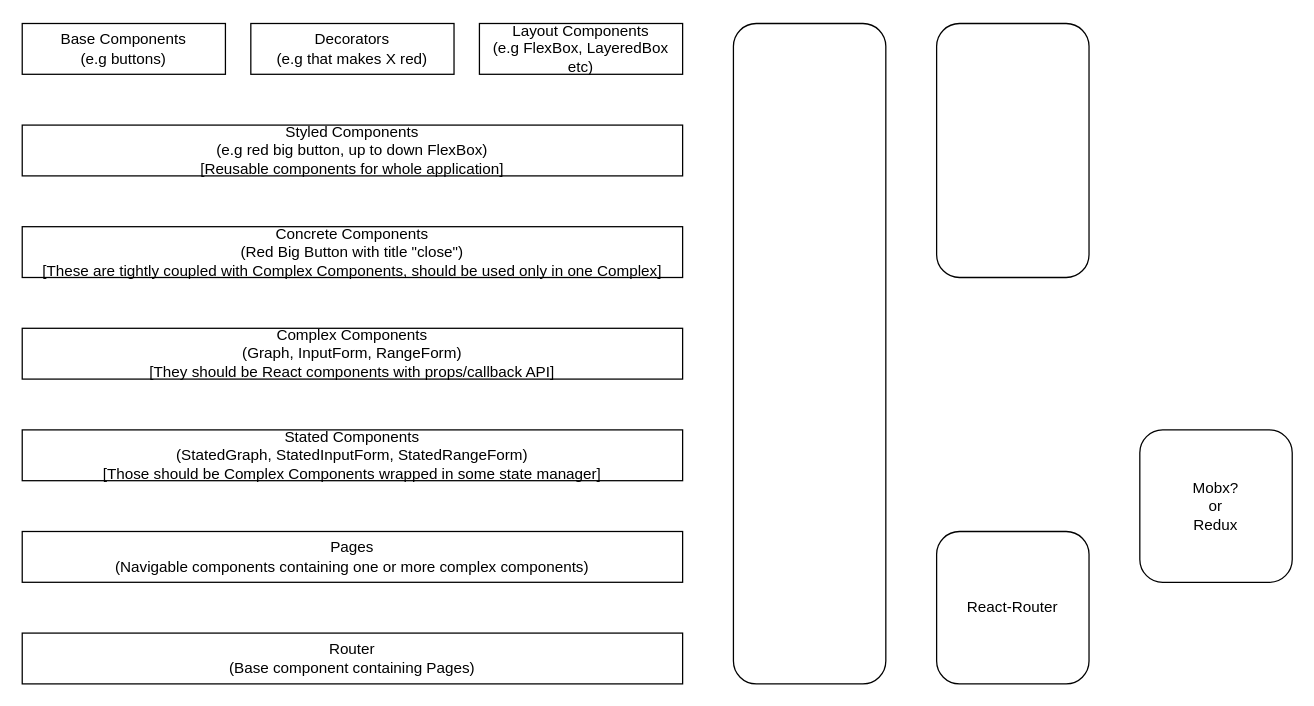
This 1314x706 diagram has some shape labels left out. Here are the shapes that lost their labels. From the top down, the centre of each, then its label:
(x=1012, y=149): Styled-Components
(x=809, y=353): React
